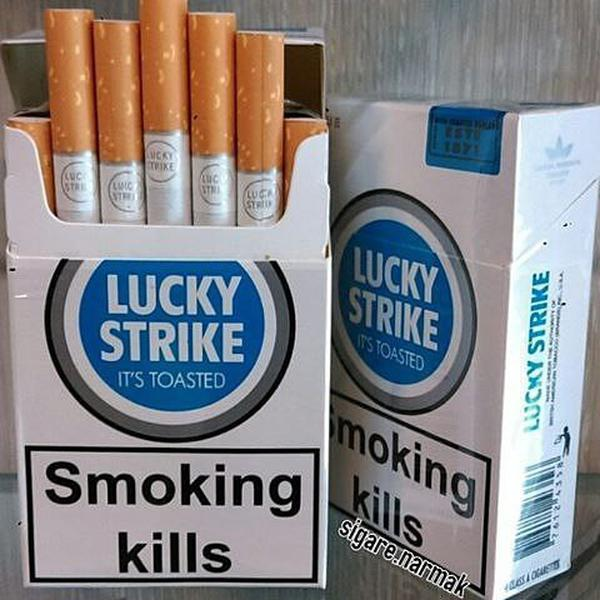lucky_strike_blue: (8, 176, 323, 591), (327, 116, 505, 551)
